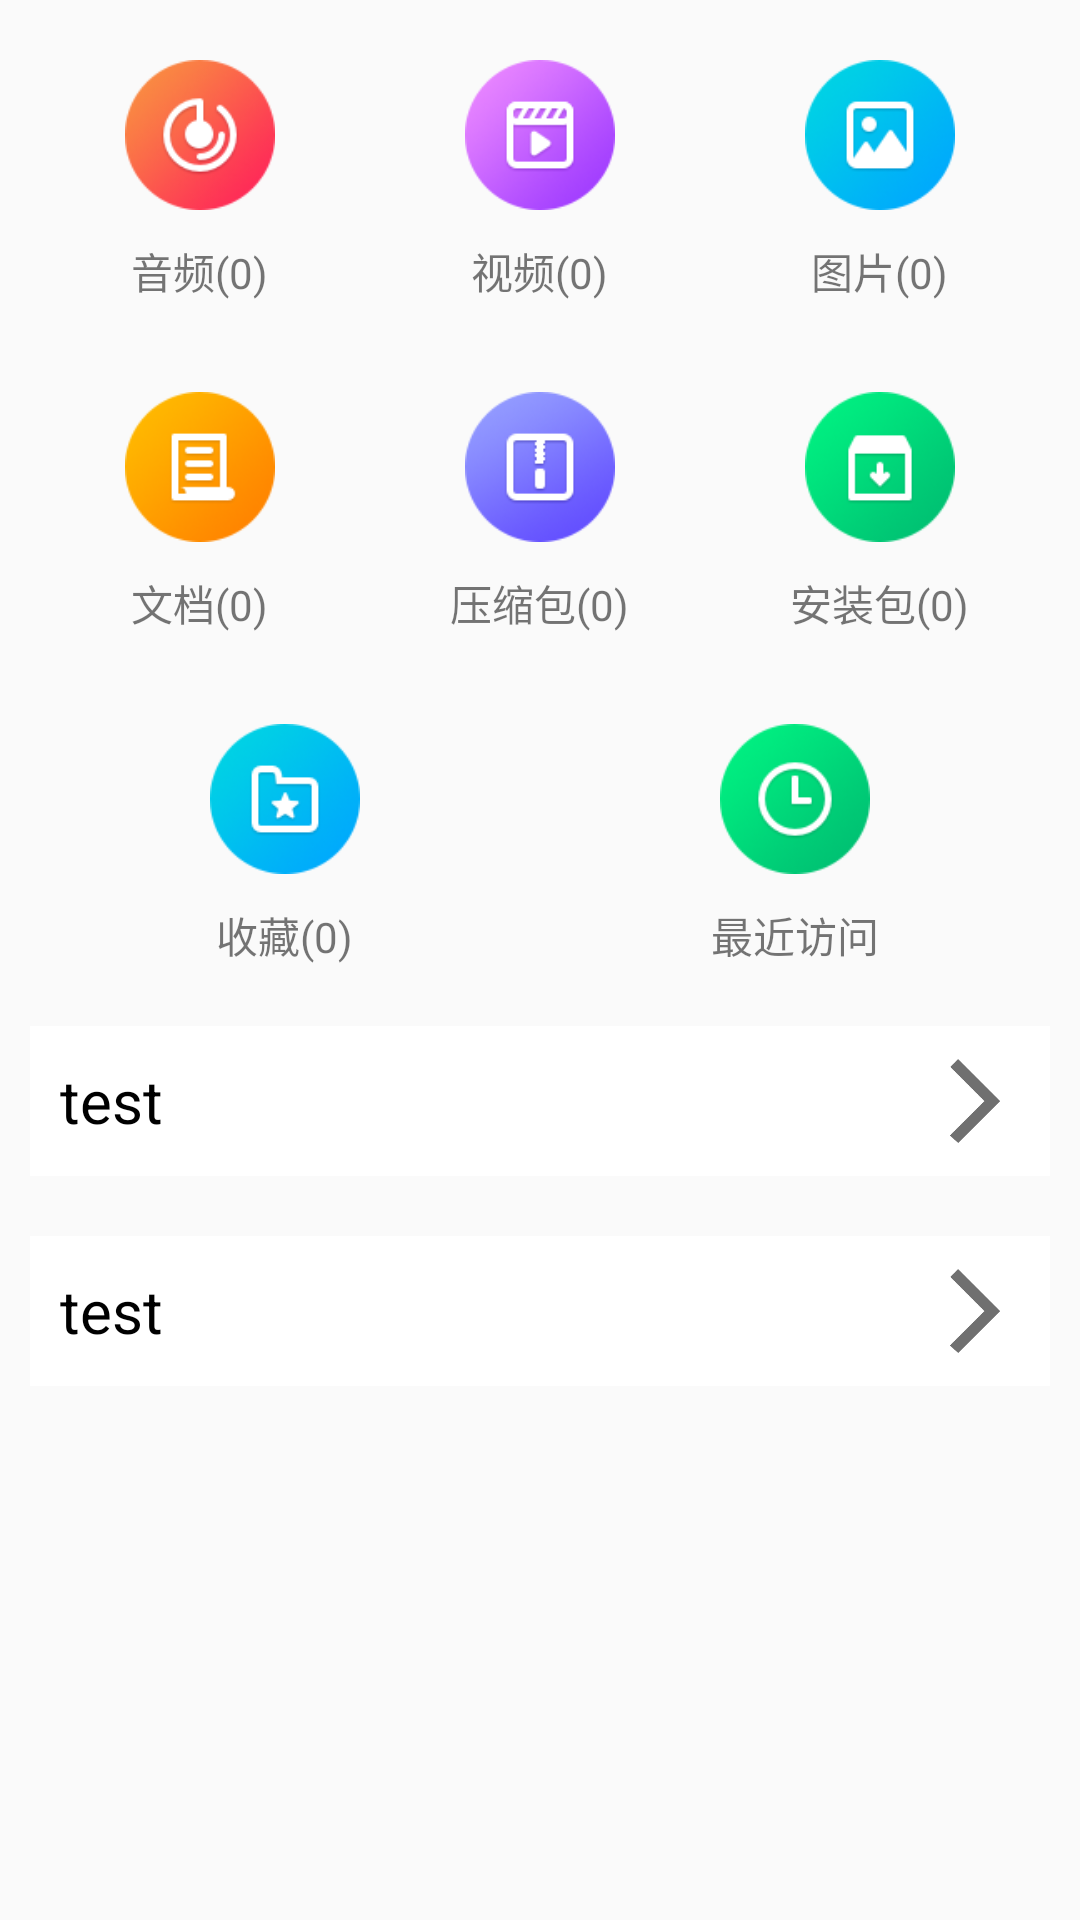

Icon click points for this 1080 × 1920 phone screenshot, format (x=x, y=y):
arrow right: (x=975, y=1101), (x=975, y=1311)
